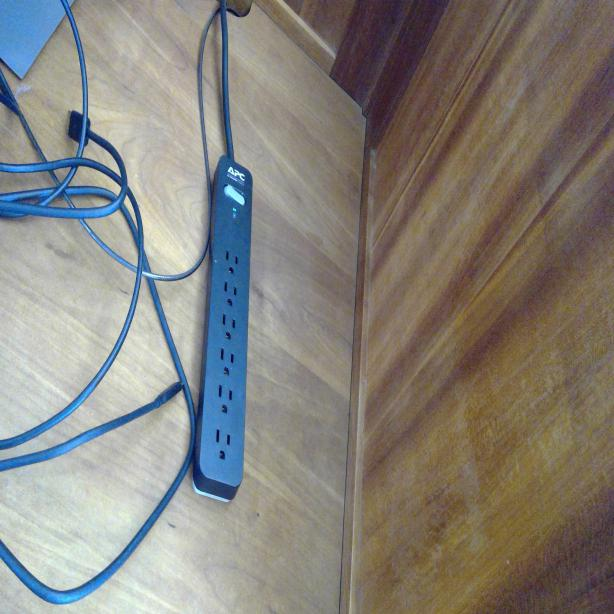typeb: (210, 423, 235, 466), (214, 340, 239, 378), (214, 380, 234, 416), (219, 277, 240, 309), (223, 242, 241, 278), (219, 310, 238, 342)
